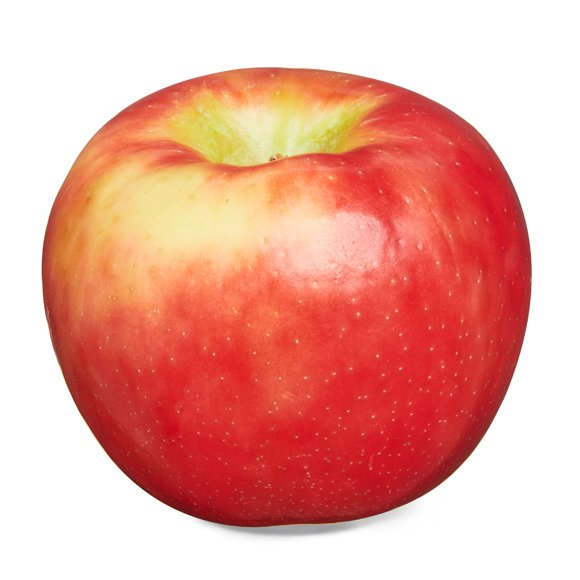apple: (40, 65, 535, 532)
